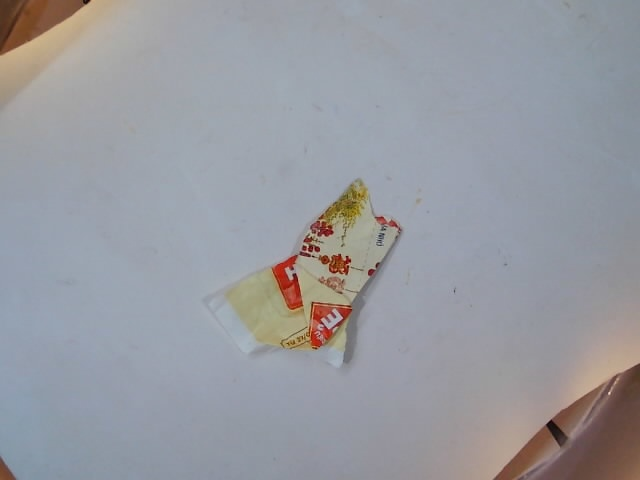paper: (200, 171, 415, 381)
